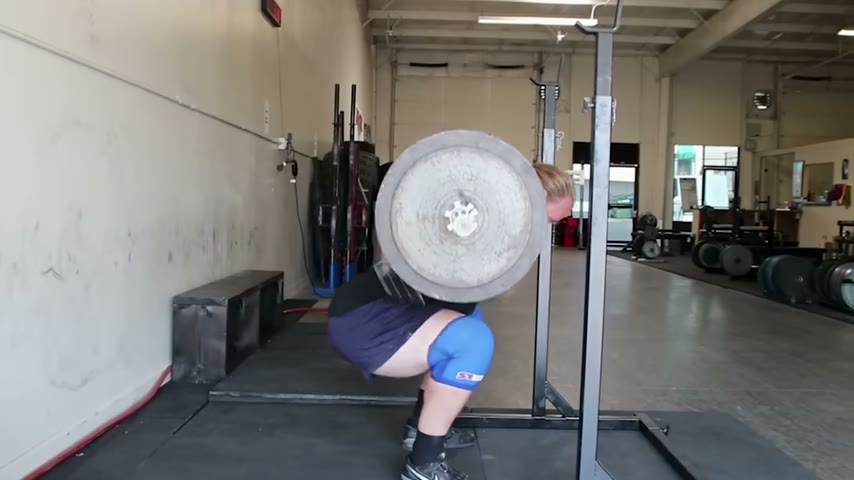barbell_plate_side: (366, 125, 433, 313)
